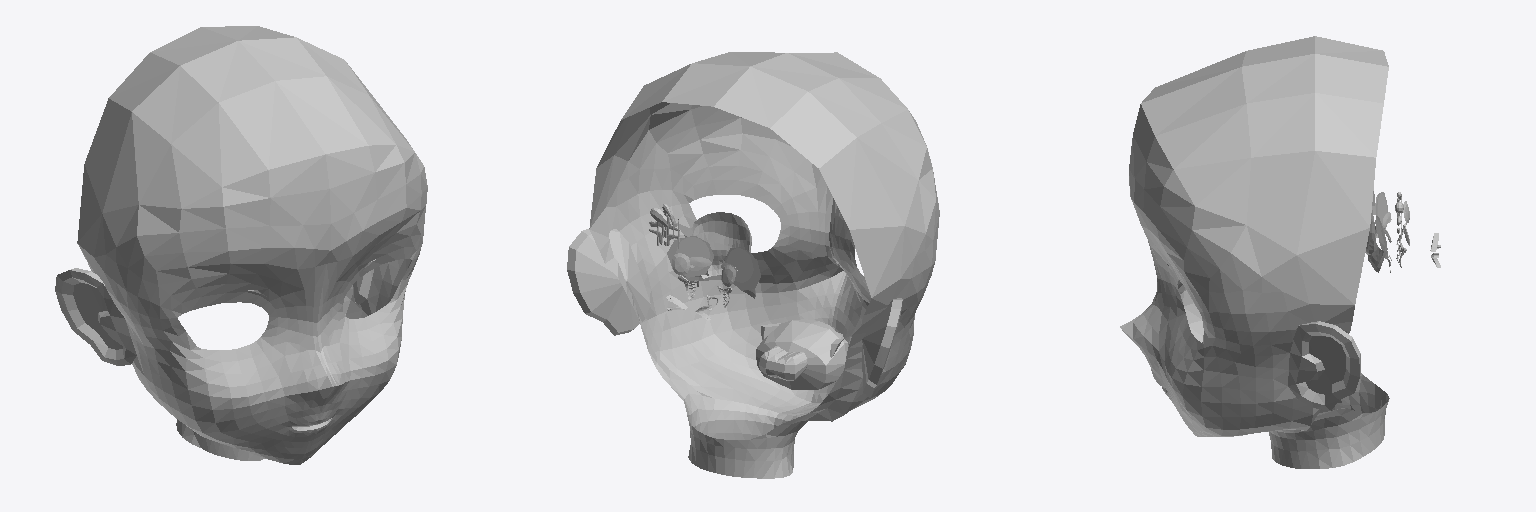
Rendered from head.obj.
3 views of the same model, side by side, from view 1: azimuth 30°, elevation 25°; view 2: azimuth 150°, elevation 25°; view 3: azimuth 270°, elevation 25° (orthographic).
Parts seen in each view (by area): view 1: Face_mtr_G11_V100.022, Face_LineNoth_mtr_G11_V100.021; view 2: Face_mtr_G11_V100.022, Face_LineNoth_mtr_G11_V100.021, Mouth_mtr_G11_V100.016, Eyes_Morph_mtr_G11_V100.032, Pale_mtr_G11_V100.058, Tongue_mtr_G11_V100.012, PupilP_Heart_mtr_G11_V100.005; view 3: Face_mtr_G11_V100.022, Face_LineNoth_mtr_G11_V100.021, Eyes_Morph_mtr_G11_V100.032.
Part boxes in pixels (bbox=[...]): Face_mtr_G11_V100.022: bbox=[55, 26, 427, 464]; Face_LineNoth_mtr_G11_V100.021: bbox=[159, 220, 424, 447]; Face_mtr_G11_V100.022: bbox=[567, 52, 939, 478]; Face_LineNoth_mtr_G11_V100.021: bbox=[671, 150, 870, 346]; Mouth_mtr_G11_V100.016: bbox=[756, 319, 848, 389]; Eyes_Morph_mtr_G11_V100.032: bbox=[667, 236, 760, 290]; Pale_mtr_G11_V100.058: bbox=[657, 212, 751, 252]; Tongue_mtr_G11_V100.012: bbox=[759, 346, 807, 380]; PupilP_Heart_mtr_G11_V100.005: bbox=[672, 253, 735, 286]; Face_mtr_G11_V100.022: bbox=[1120, 36, 1389, 468]; Face_LineNoth_mtr_G11_V100.021: bbox=[1140, 244, 1215, 421]; Eyes_Morph_mtr_G11_V100.032: bbox=[1375, 192, 1387, 259].
Size of the model in its own units: 0.1868 by 0.2206 by 0.1589.